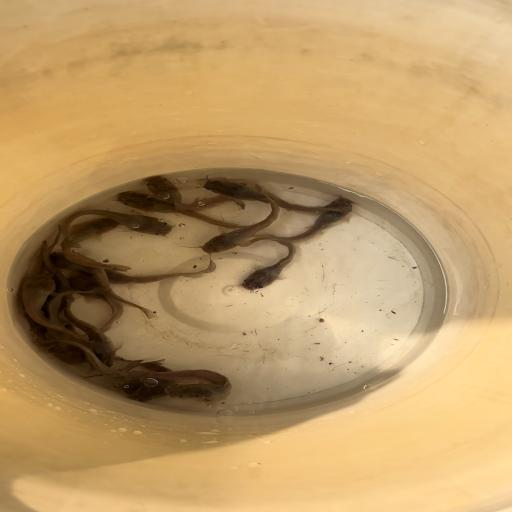lele: (53, 253, 158, 319), (34, 285, 113, 364), (236, 196, 356, 248), (198, 183, 280, 256), (114, 190, 254, 230), (200, 178, 352, 214), (76, 248, 216, 284), (58, 208, 174, 248), (20, 274, 88, 340), (56, 294, 118, 366), (83, 360, 180, 404), (57, 340, 141, 390), (122, 368, 235, 404), (145, 172, 246, 210), (59, 217, 131, 270), (236, 233, 298, 292), (66, 274, 126, 334), (43, 232, 74, 312)
